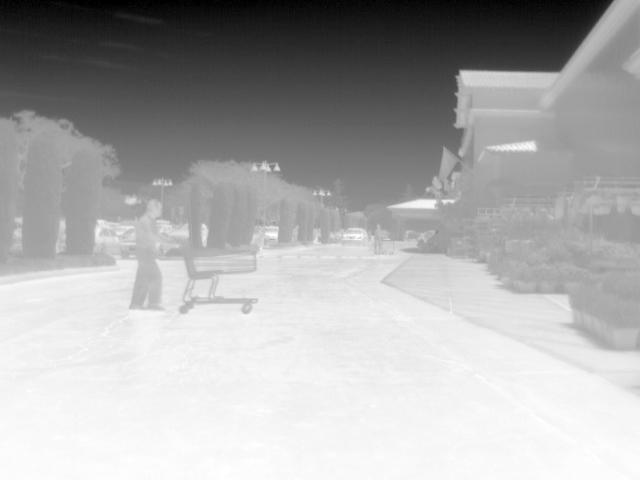car: (170, 222, 208, 248), (94, 226, 118, 256), (118, 228, 137, 259), (340, 226, 367, 246), (153, 228, 171, 255), (260, 223, 279, 247), (423, 229, 434, 242), (407, 232, 419, 241)
person: (125, 199, 187, 311), (371, 223, 384, 255), (290, 225, 300, 246)
